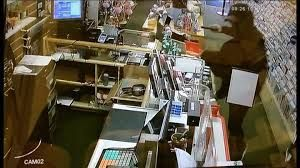gun: (189, 17, 229, 42)
